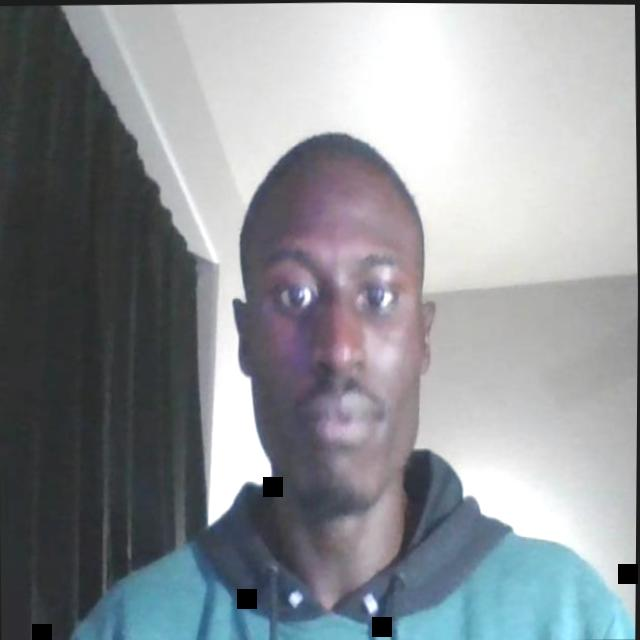NO-Mask: (240, 184, 425, 516)
